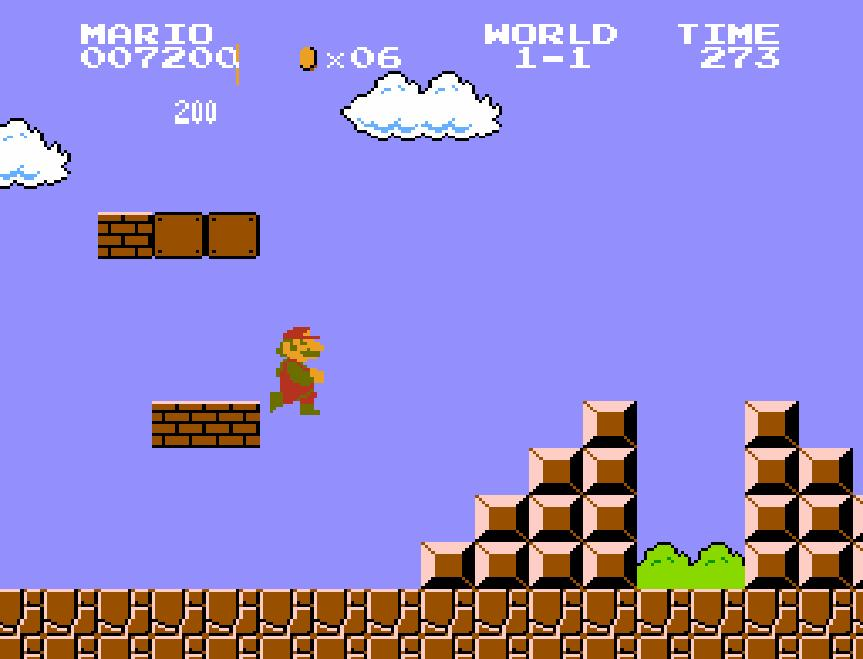big_mario: (267, 319, 325, 417)
